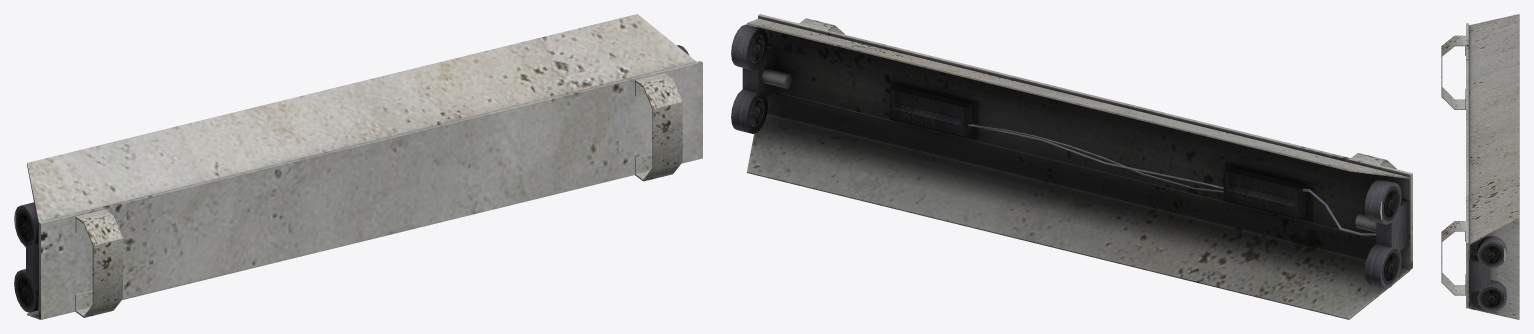
The model's file is SM_int_lamp_1.fbx.
The picture shows the model from 3 angles, left to right: view 1: azimuth 30°, elevation 25°; view 2: azimuth 150°, elevation 25°; view 3: azimuth 270°, elevation 25°; orthographic projection. The views are drawn at different scales.
Parts seen in each view (by area): view 1: SM_int_lamp_1; view 2: SM_int_lamp_1; view 3: SM_int_lamp_1.
Part boxes in pixels (box(x1,y1,x2,y2)): SM_int_lamp_1: box(14, 14, 702, 319); SM_int_lamp_1: box(731, 14, 1412, 319); SM_int_lamp_1: box(1441, 14, 1519, 319).
Size of the model in its own units: 168 by 25.31 by 36.95.
1 material, 1 textured.
